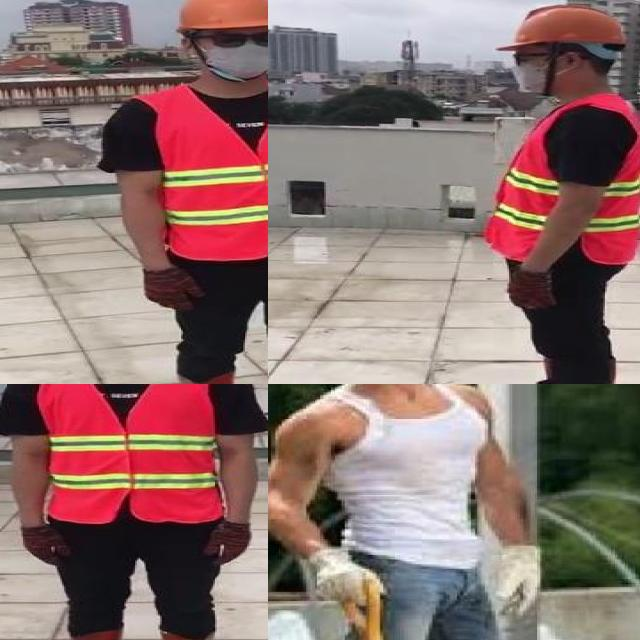face_mask: (194, 27, 268, 78), (504, 44, 564, 95)
glasses: (202, 27, 268, 52)
hand_glove: (140, 268, 204, 311), (19, 525, 71, 567), (502, 271, 553, 313), (205, 523, 252, 564)
head_helmet: (488, 1, 630, 54), (170, 0, 268, 33)
person: (268, 384, 576, 640), (453, 0, 640, 384), (0, 384, 266, 640), (94, 0, 268, 384)
vest: (483, 91, 640, 263), (39, 384, 224, 523), (152, 84, 268, 261)
